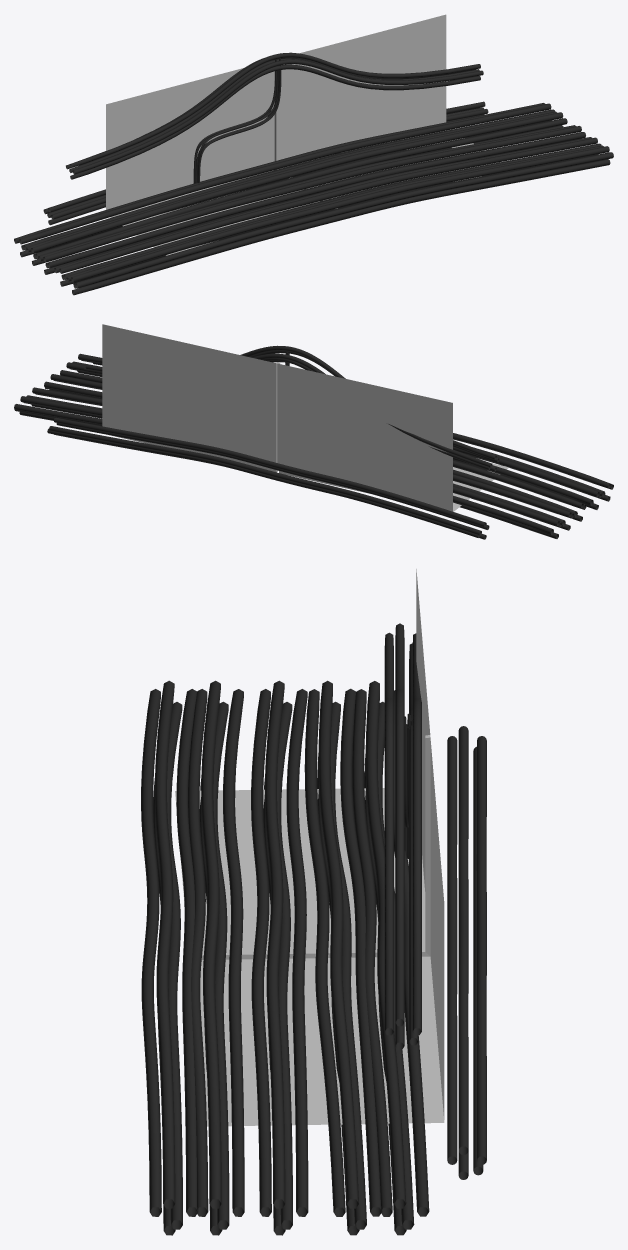
Rendered from escena cables.fbx.
3 views of the same model, one above another, from view 1: azimuth 30°, elevation 25°; view 2: azimuth 150°, elevation 25°; view 3: azimuth 270°, elevation 25° (orthographic). The views are drawn at different scales.
Visible parts, largest first — view 1: Cube, NurbsPath.009, NurbsPath.005, NurbsPath.006, NurbsPath.001, NurbsPath.004, NurbsPath.008, NurbsPath.003, NurbsPath; view 2: Cube, NurbsPath.003, NurbsPath.008, NurbsPath.001, NurbsPath.005, NurbsPath.006, NurbsPath.004, NurbsPath.009; view 3: Cube, NurbsPath.005, NurbsPath.006, NurbsPath.009, NurbsPath.004, NurbsPath.008, NurbsPath.003, NurbsPath.001.
Boxes of the visible parts, x1,y1,x2,y2 form: Cube: (106, 14, 500, 255); NurbsPath.009: (67, 145, 613, 295); NurbsPath.005: (38, 125, 585, 274); NurbsPath.006: (26, 111, 567, 265); NurbsPath.001: (66, 52, 483, 179); NurbsPath.004: (54, 137, 601, 286); NurbsPath.008: (14, 103, 555, 257); NurbsPath.003: (43, 101, 488, 225); NurbsPath: (193, 58, 281, 183); Cube: (102, 324, 508, 511); NurbsPath.003: (47, 417, 489, 539); NurbsPath.008: (14, 396, 562, 538); NurbsPath.001: (84, 345, 499, 471); NurbsPath.005: (44, 374, 586, 521); NurbsPath.006: (26, 387, 573, 530); NurbsPath.004: (60, 362, 602, 509); NurbsPath.009: (72, 353, 613, 501); Cube: (175, 569, 444, 1126); NurbsPath.005: (251, 680, 308, 1235); NurbsPath.006: (304, 680, 382, 1235); NurbsPath.009: (141, 680, 198, 1235); NurbsPath.004: (188, 680, 244, 1235); NurbsPath.008: (352, 681, 429, 1235); NurbsPath.003: (447, 726, 486, 1179); NurbsPath.001: (384, 623, 421, 1049).
Bounding box in the file's own units: 11651 × 2771 × 3264.
